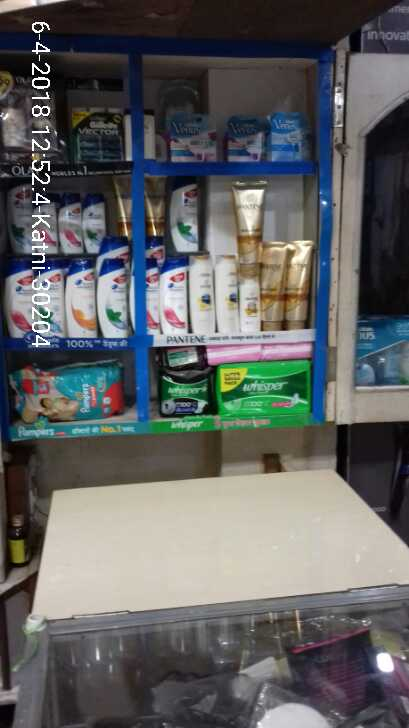gillete: (74, 112, 122, 162)
venus: (170, 111, 215, 160), (270, 111, 310, 159), (228, 115, 268, 159)
